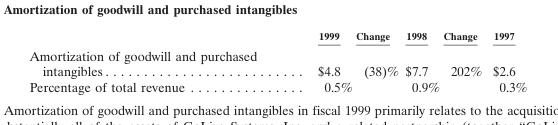table: (28, 29, 526, 94)
table column: (28, 29, 286, 94), (286, 29, 353, 94), (353, 29, 401, 94), (440, 29, 486, 94), (486, 29, 526, 94), (401, 29, 440, 94)
table column header: (28, 29, 526, 44)
table row: (28, 44, 526, 78), (28, 78, 526, 94), (28, 29, 526, 44)
